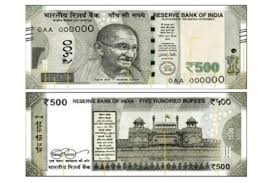fiveHundred: (34, 21, 226, 77)
